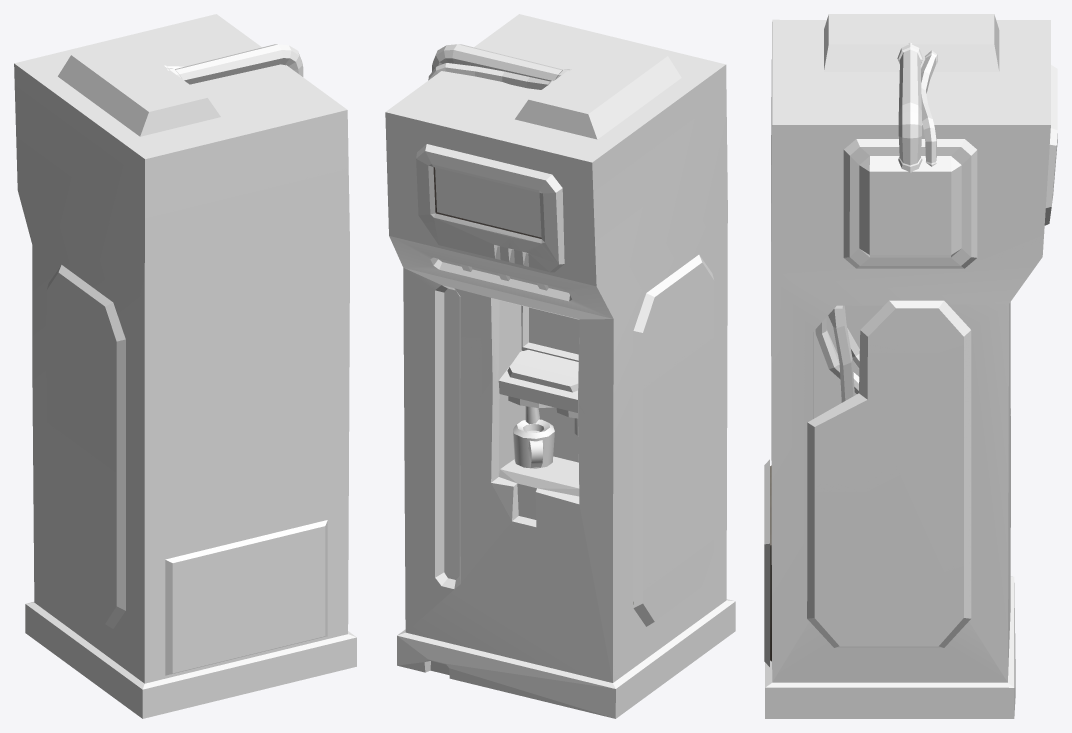
The model's file is CoffeeMachine.glb.
3 renders of one model, left to right at view 1: azimuth 30°, elevation 25°; view 2: azimuth 150°, elevation 25°; view 3: azimuth 270°, elevation 25°, orthographic. The views are drawn at different scales.
Parts seen in each view (by area): view 1: CoffeeMachineArenaHologram; view 2: CoffeeMachineArenaHologram; view 3: CoffeeMachineArenaHologram.
Part boxes in pixels (bbox=[...]): CoffeeMachineArenaHologram: bbox=[14, 14, 356, 718]; CoffeeMachineArenaHologram: bbox=[385, 14, 735, 718]; CoffeeMachineArenaHologram: bbox=[764, 14, 1057, 718].
Bounding box in the file's own units: 0.9765 × 2.32 × 1.
2 materials, 1 textured.
